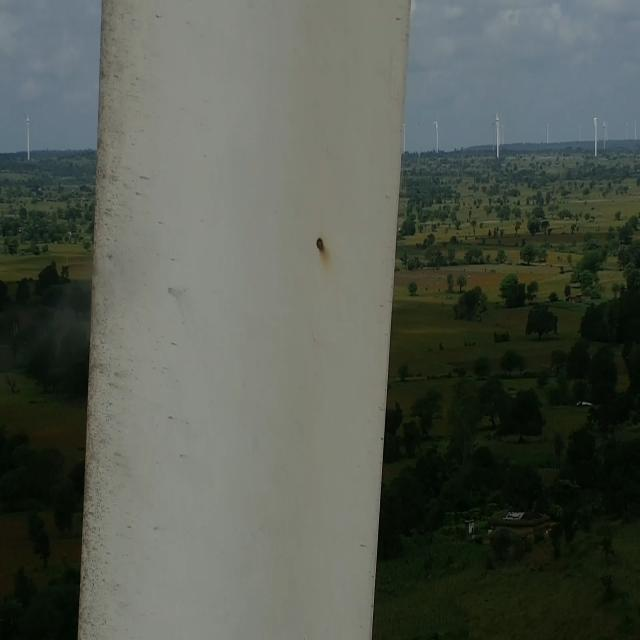Dirt: (75, 0, 155, 640)
